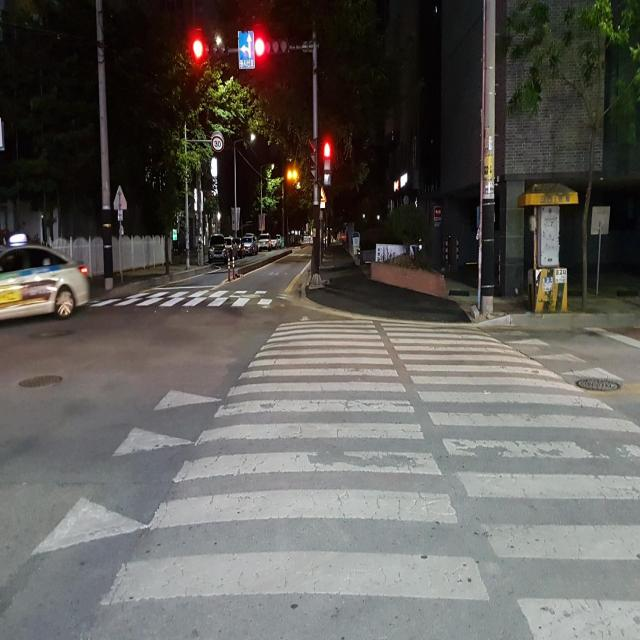빨간불: (323, 142, 333, 188)
횡단보도: (98, 313, 640, 640), (88, 280, 273, 312)
